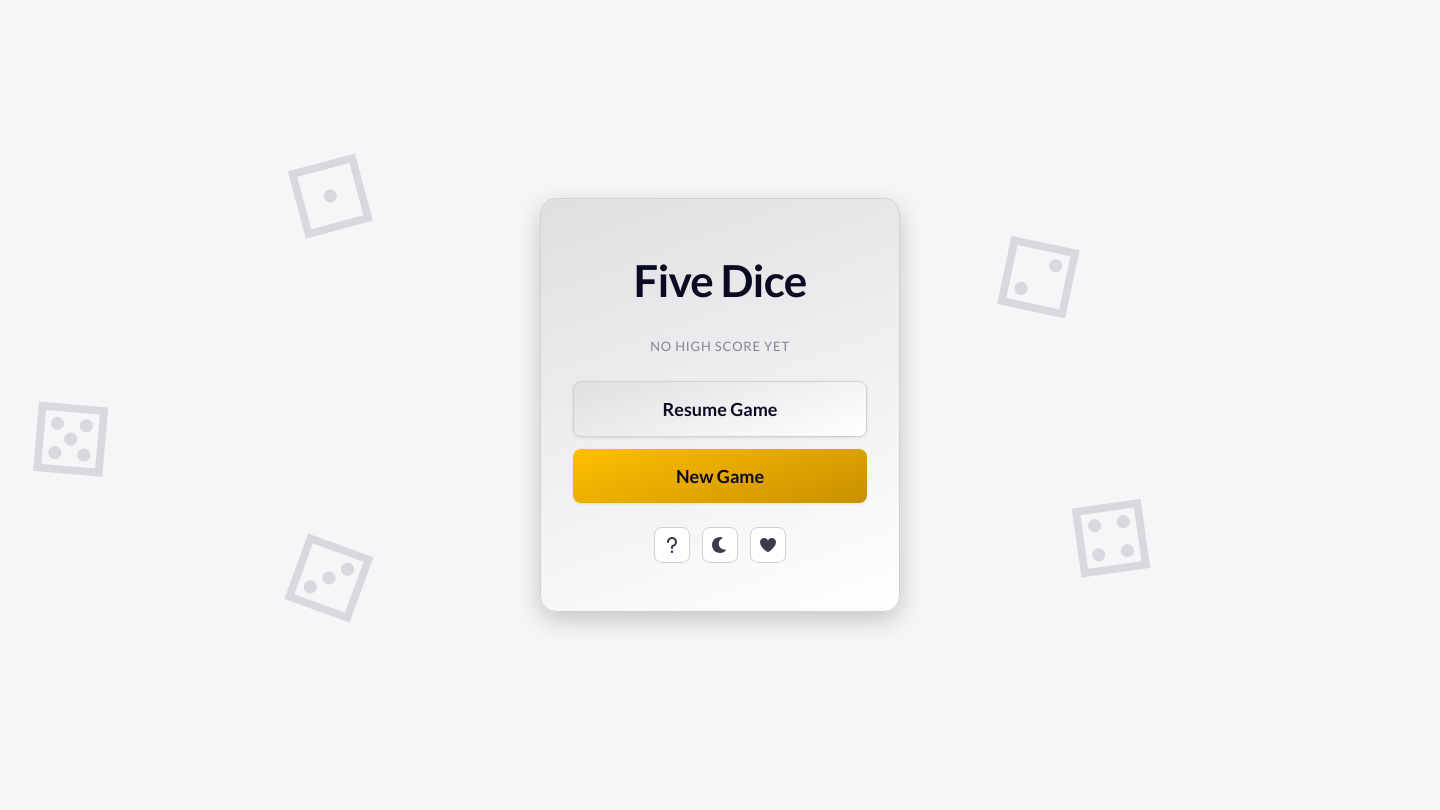
Test: PlayScreen › Roll button is disabled after 3 rolls
The image size is (1440, 810).
Click the button "Resume Game" at [720, 409], box [573, 381, 867, 437]
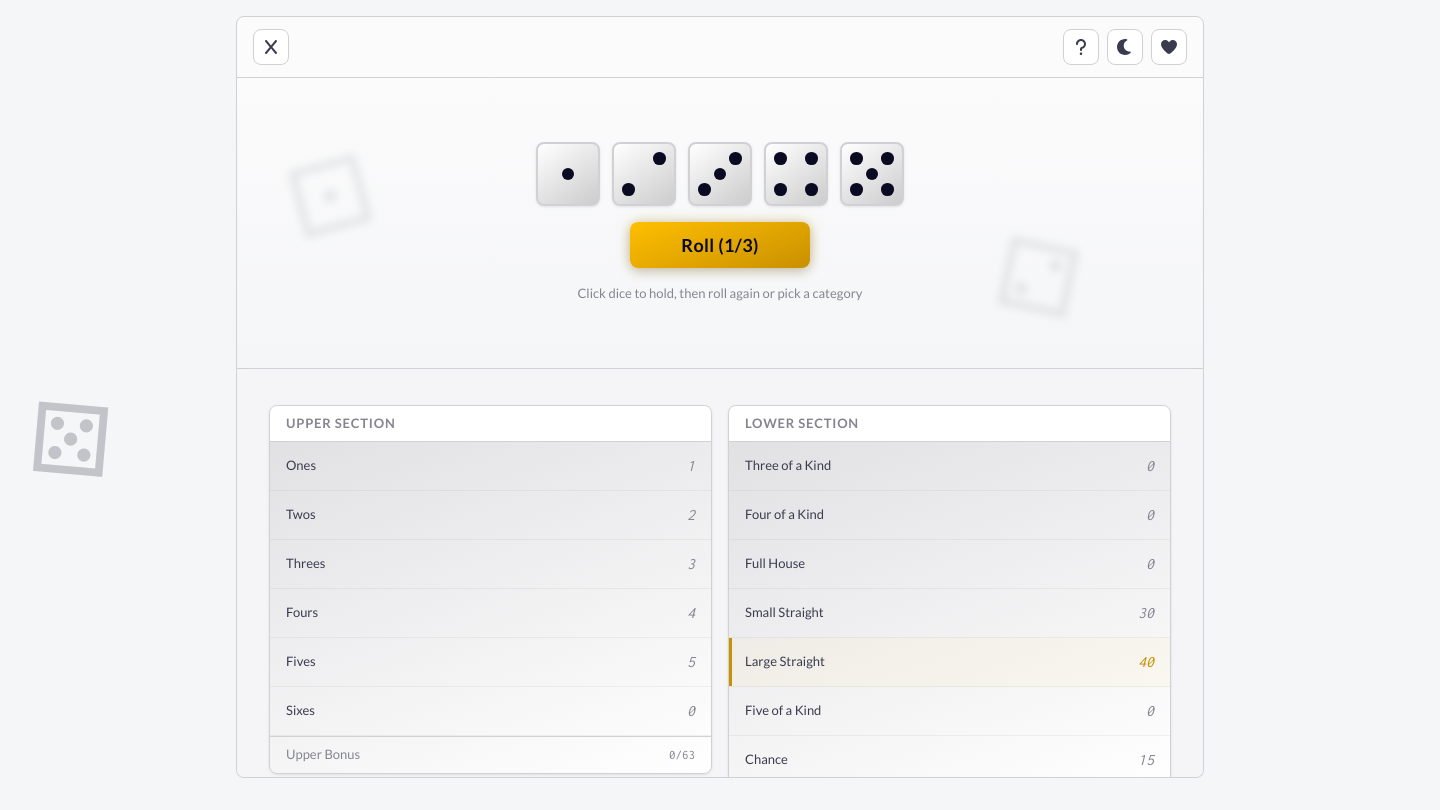
Click the button "Roll (1/3)" at [720, 245], box [630, 222, 810, 268]
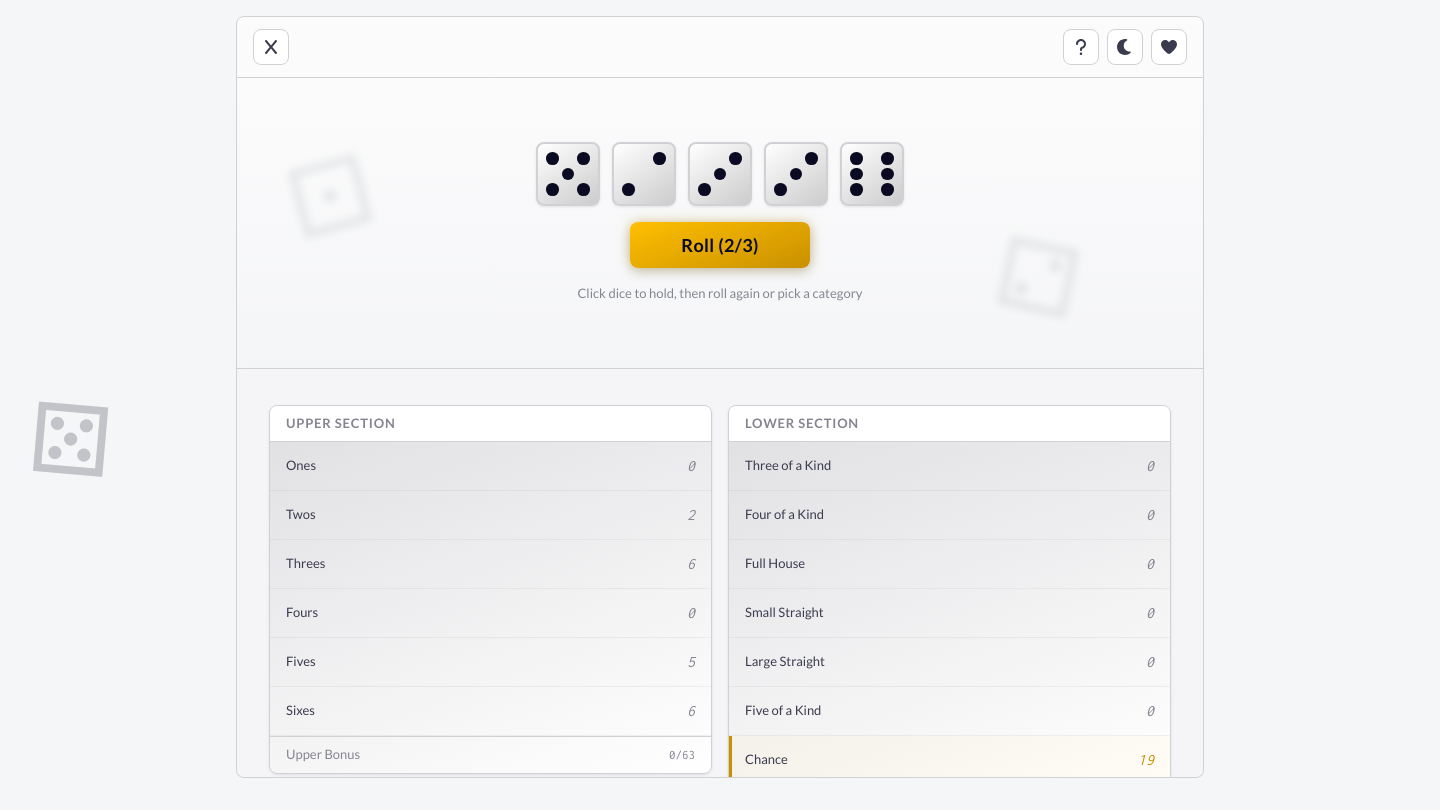
Click the button "Roll (2/3)" at [720, 245], box [630, 222, 810, 268]
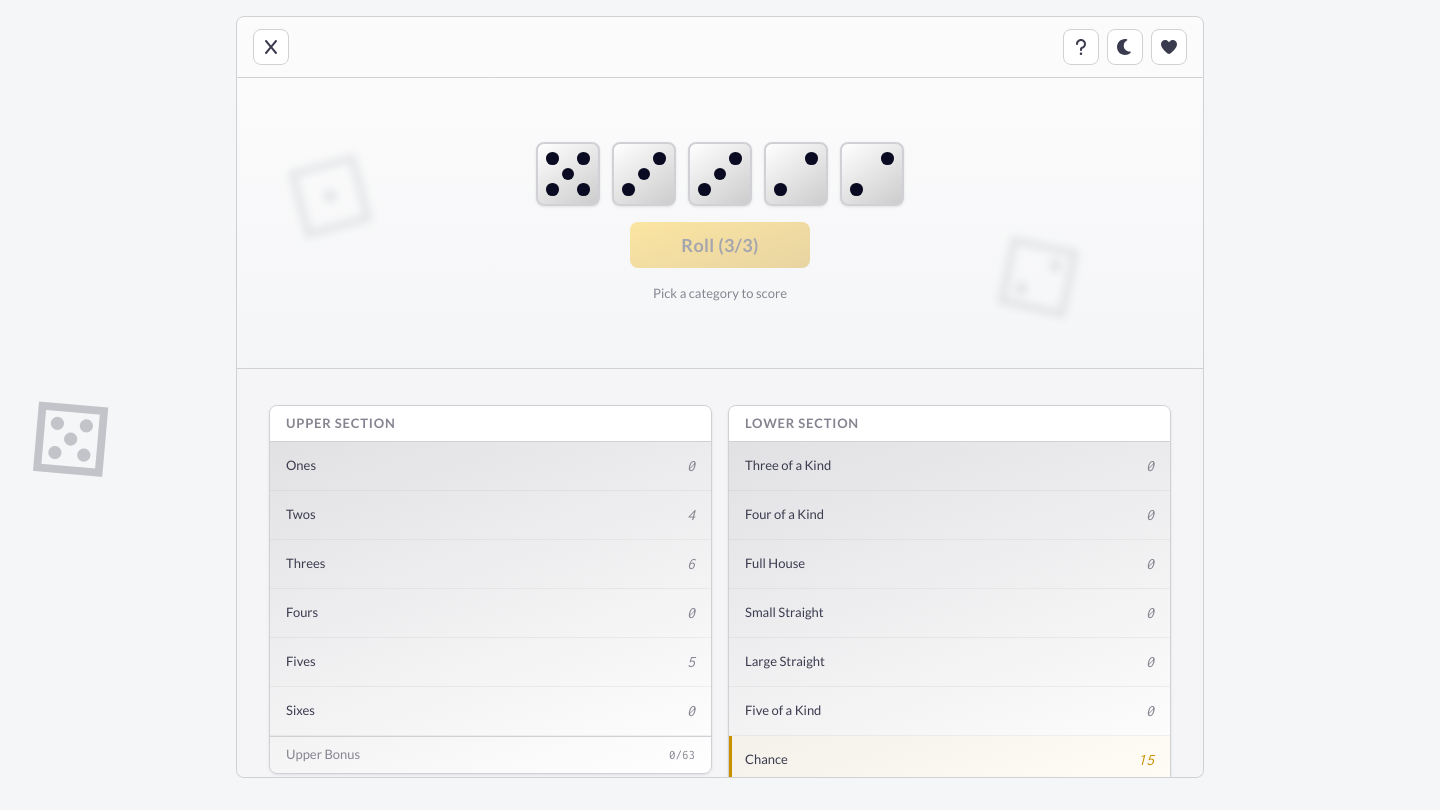
Check: the button "Roll (3/3)" is disabled, box [630, 222, 810, 268]
